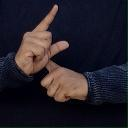hand: (14, 3, 69, 76), (39, 60, 89, 103)
